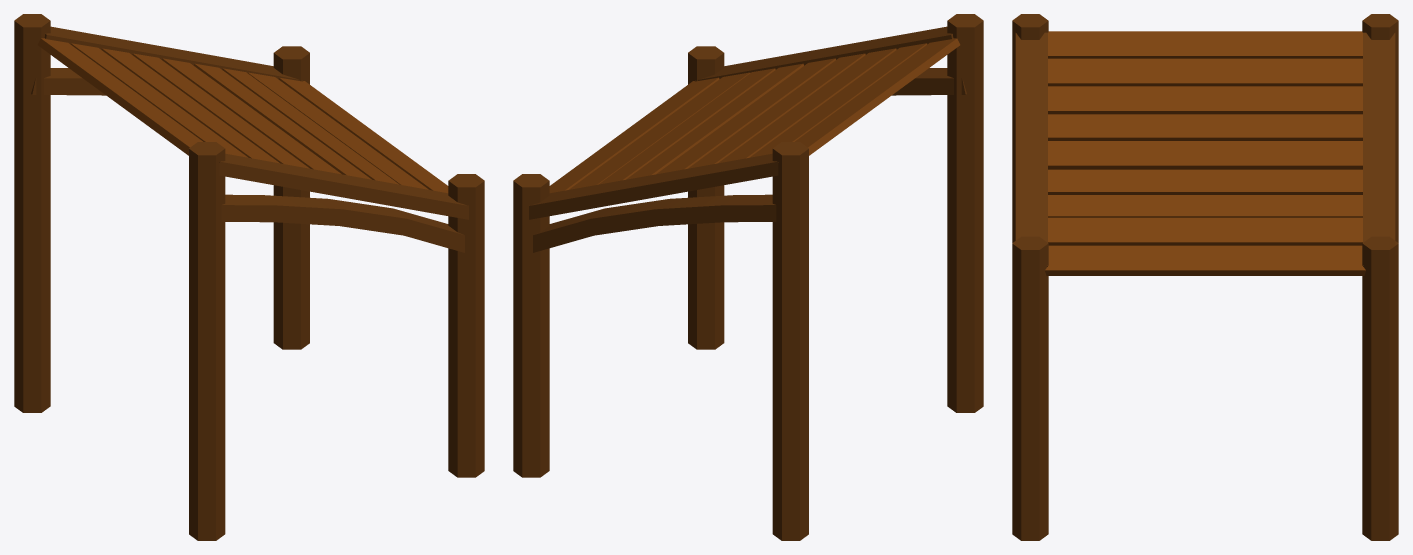
Rendered from Mesh_ramp_Dock.fbx.
3 renders of one model, left to right at view 1: azimuth 30°, elevation 25°; view 2: azimuth 150°, elevation 25°; view 3: azimuth 270°, elevation 25°, orthographic.
Visible parts, largest first — view 1: ramp_Dock; view 2: ramp_Dock; view 3: ramp_Dock.
Boxes of the visible parts, x1,y1,x2,y2 form: ramp_Dock: (14, 14, 484, 540); ramp_Dock: (513, 14, 983, 540); ramp_Dock: (1012, 14, 1398, 540).
Size of the model in its own units: 367 by 472 by 428.
1 material, 1 textured.
